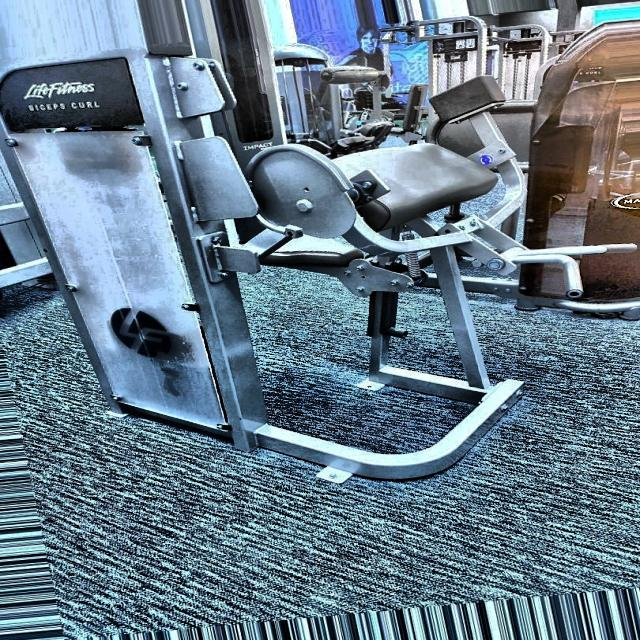bicep_curl_machine: (188, 40, 628, 497), (20, 92, 110, 124)
